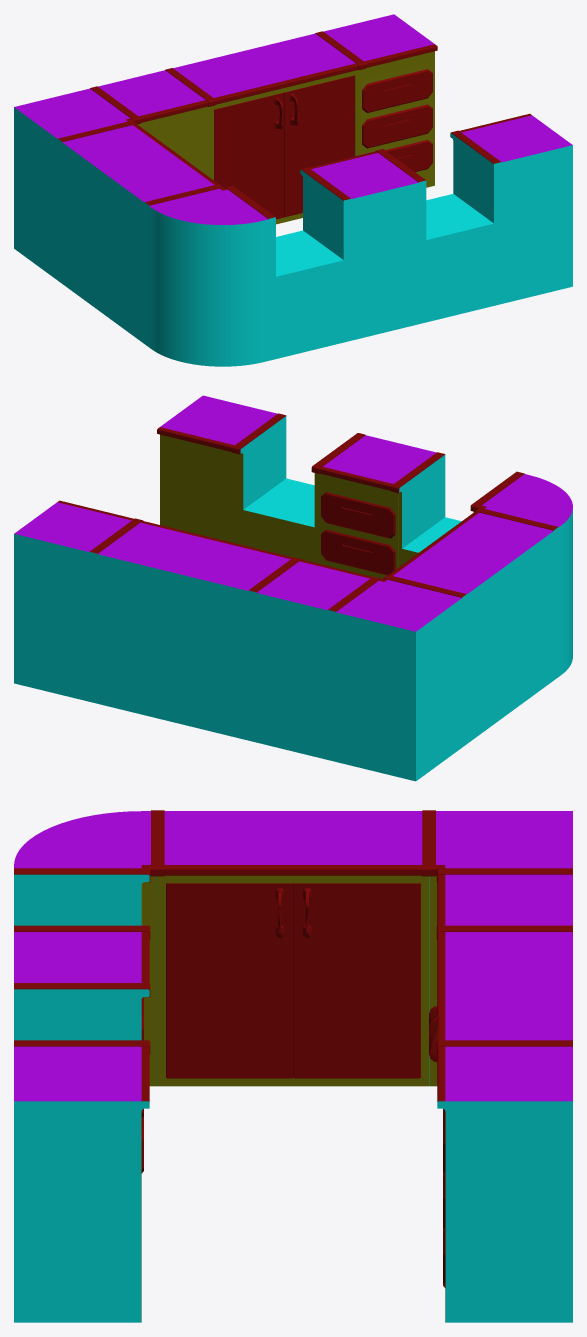
File: Modules_Base.fbx
3 views of the same model, one above another, from view 1: azimuth 30°, elevation 25°; view 2: azimuth 150°, elevation 25°; view 3: azimuth 270°, elevation 25° (orthographic). The views are drawn at different scales.
Visible parts, largest first — view 1: Module_Round_Corner, Module_Cabinet_1, Module_Empty_1, Module_Drawer_1, Module_Void_1, Module_Void_2, Module_Sharp_Corner, Module_Cabinet_2, Cabinet_Door_1, Cabinet_Door_2, Module_Drawer_2, Module_Empty_2 (+3 smaller); view 2: Module_Cabinet_2, Module_Sharp_Corner, Module_Cabinet_1, Module_Drawer_2, Module_Empty_2, Module_Empty_1, Module_Void_1, Module_Drawer_1, Module_Round_Corner, Module_Void_2, Drawer_1, Drawer_2; view 3: Module_Empty_1, Module_Drawer_2, Module_Cabinet_1, Cabinet_Door_1, Cabinet_Door_2, Module_Cabinet_2, Module_Sharp_Corner, Module_Round_Corner, Module_Empty_2, Module_Drawer_1, Module_Void_2, Module_Void_1 (+9 smaller).
Boxes of the visible parts, x1,y1,x2,y2 form: Module_Round_Corner: (146,187,272,366); Module_Cabinet_1: (60,124,218,345); Module_Empty_1: (459,113,572,304); Module_Drawer_1: (309,151,422,341); Module_Void_1: (422,133,497,322); Module_Void_2: (272,169,347,359); Module_Sharp_Corner: (14,88,132,281); Module_Cabinet_2: (173,33,359,224); Cabinet_Door_1: (214,92,284,219); Cabinet_Door_2: (284,75,354,217); Module_Drawer_2: (323,14,437,187); Module_Empty_2: (98,70,209,176); Module_Cabinet_2: (93,521,292,741); Module_Sharp_Corner: (331,578,464,781); Module_Cabinet_1: (389,511,556,745); Module_Drawer_2: (14,500,133,702); Module_Empty_2: (252,559,372,760); Module_Empty_1: (157,395,277,544); Module_Void_1: (239,416,318,563); Module_Drawer_1: (318,435,436,578); Module_Round_Corner: (479,474,572,678); Module_Void_2: (398,455,473,567); Drawer_1: (321,492,395,538); Drawer_2: (321,529,395,575); Module_Empty_1: (14,1046,149,1322); Module_Drawer_2: (437,1046,572,1322); Module_Cabinet_1: (157,811,429,1086); Cabinet_Door_1: (166,883,293,1078); Cabinet_Door_2: (293,883,420,1078); Module_Cabinet_2: (437,932,572,1040); Module_Sharp_Corner: (429,811,572,1086); Module_Round_Corner: (14,811,157,1086); Module_Empty_2: (437,874,572,925); Module_Drawer_1: (14,932,149,983); Module_Void_2: (14,874,149,925); Module_Void_1: (14,989,149,1040).
Bounding box in the file's own units: 253 × 90.3 × 206.
